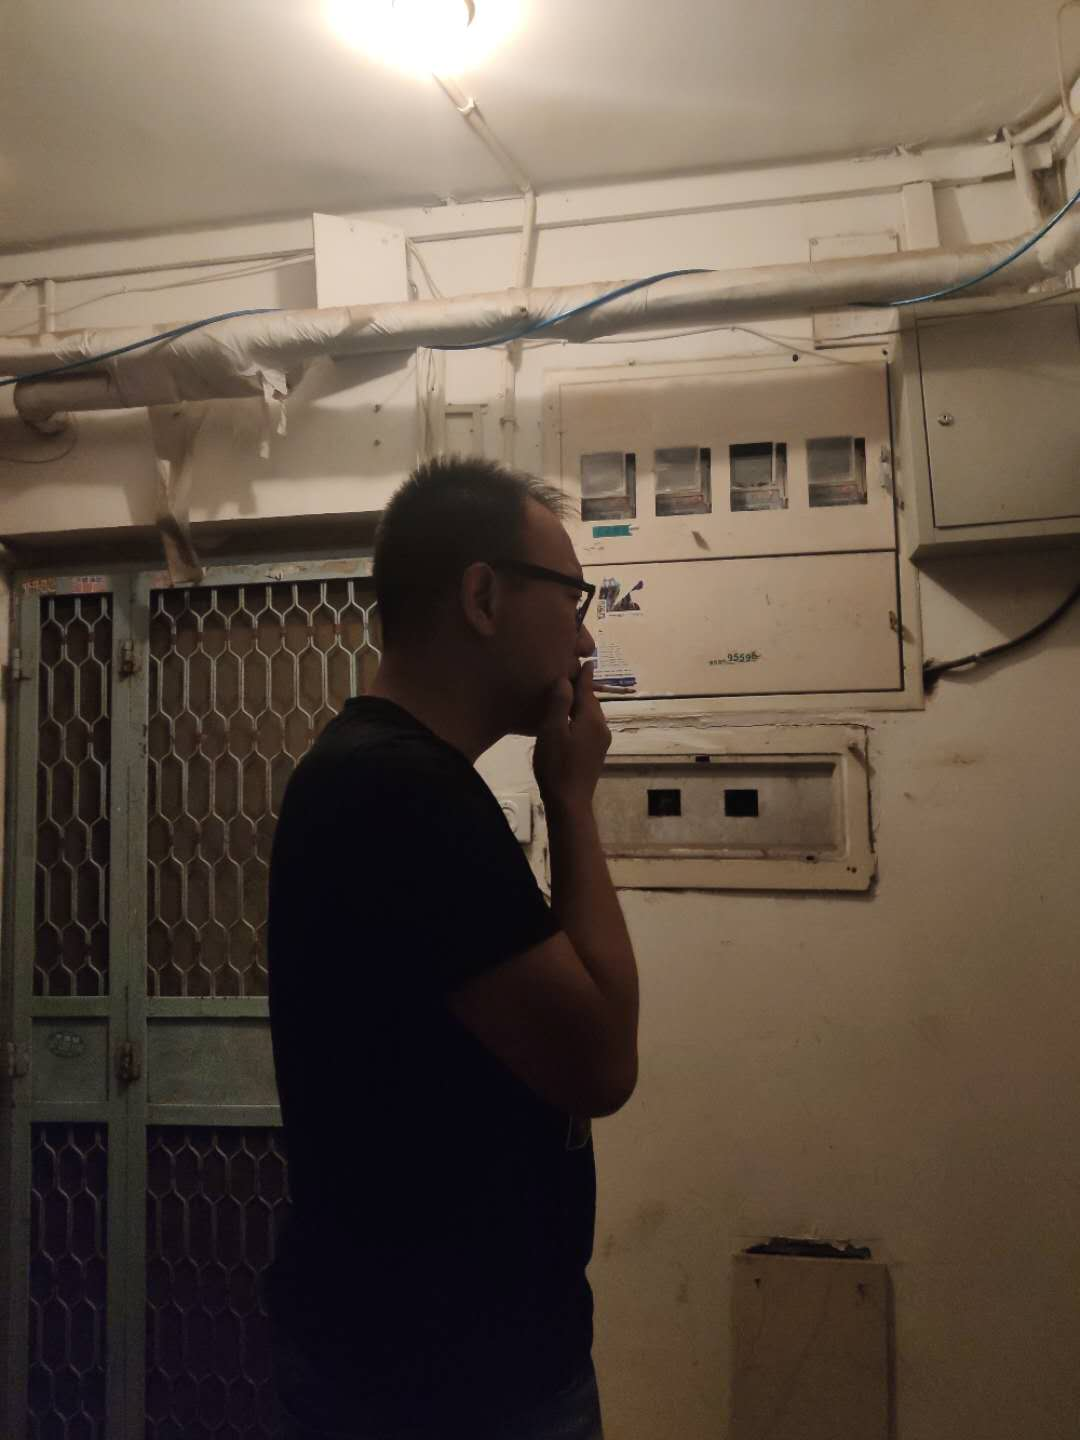smoke: (592, 681, 640, 703)
